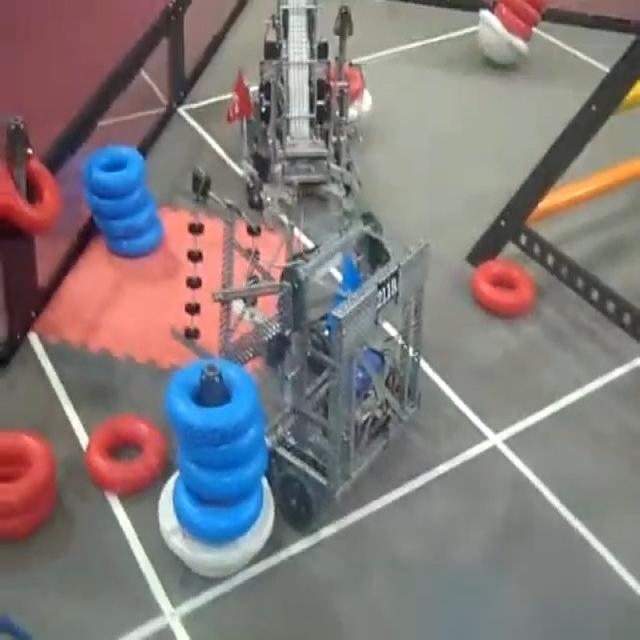Blue-Ring: (165, 358, 262, 445), (174, 477, 262, 542), (180, 443, 268, 503), (180, 417, 264, 468), (84, 145, 145, 198), (94, 198, 156, 238), (105, 220, 164, 256), (85, 187, 150, 218)
Red-Ring: (85, 413, 168, 495), (0, 155, 61, 234), (0, 432, 55, 516), (472, 258, 536, 317), (0, 498, 55, 540), (324, 63, 366, 105), (494, 0, 531, 40), (514, 1, 548, 22)
